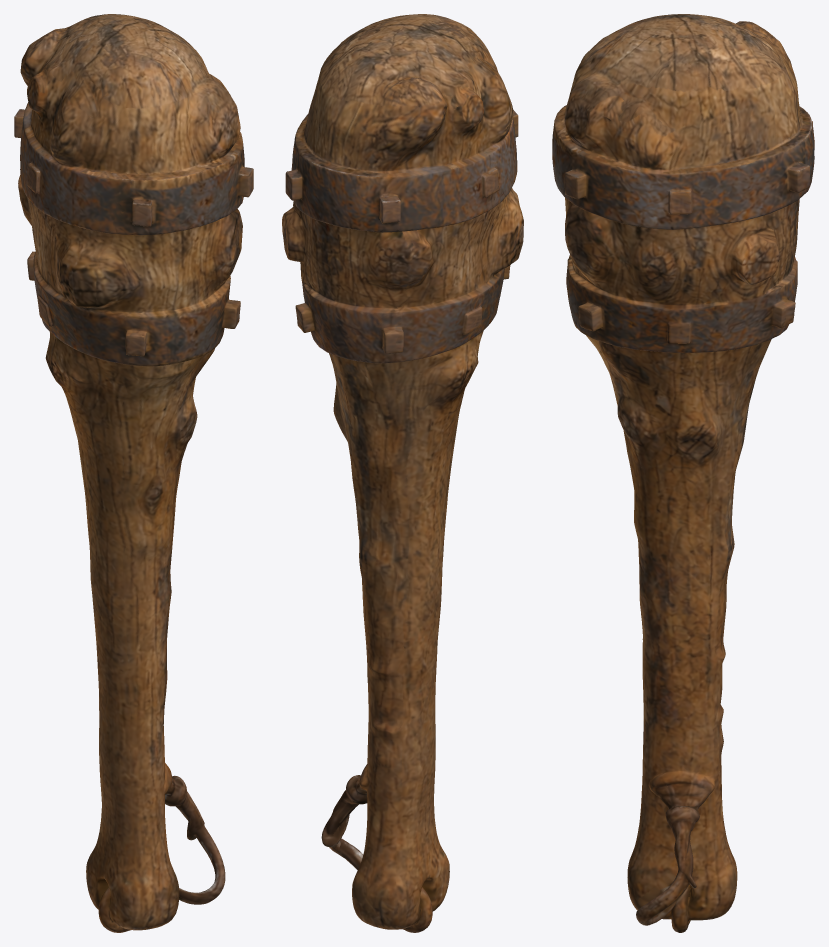
File: cudgel.glb
3 views of the same model, side by side, from view 1: azimuth 30°, elevation 25°; view 2: azimuth 150°, elevation 25°; view 3: azimuth 270°, elevation 25° (orthographic).
Visible parts, largest first — view 1: geometry_0; view 2: geometry_0; view 3: geometry_0.
Boxes of the visible parts, x1,y1,x2,y2 form: geometry_0: (14, 14, 253, 932); geometry_0: (282, 14, 523, 932); geometry_0: (552, 14, 814, 932).
Bounding box in the file's own units: 0.2106 × 0.9461 × 0.2497.
Materials: 1 (1 with a texture image).
